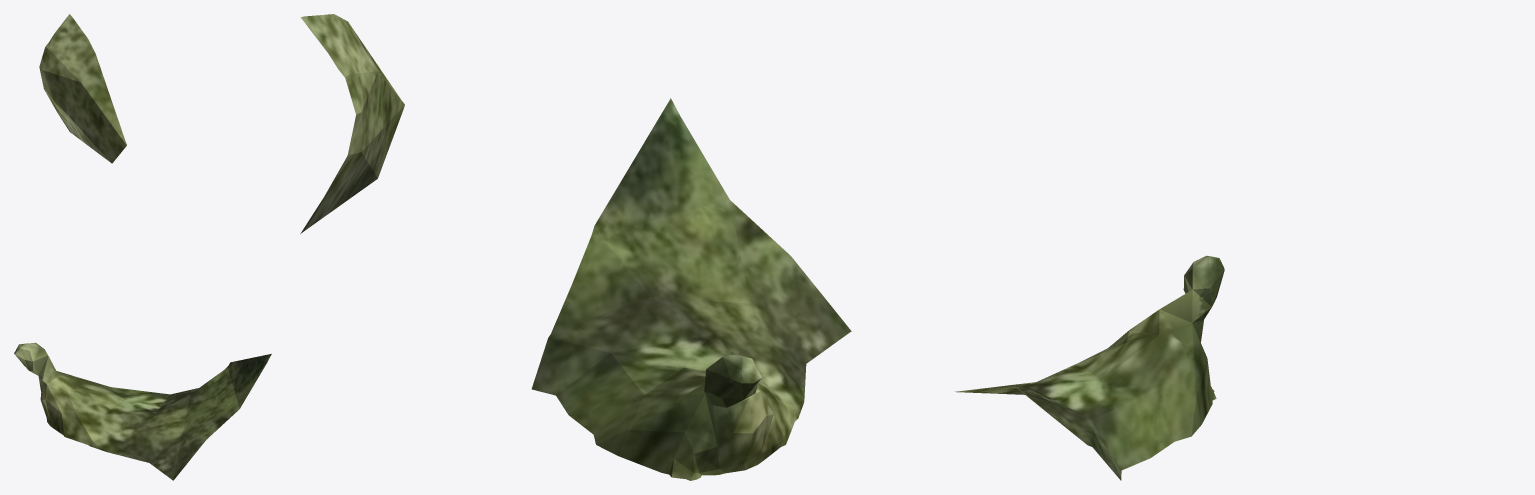
3 renders of one model, left to right at view 1: azimuth 30°, elevation 25°; view 2: azimuth 150°, elevation 25°; view 3: azimuth 270°, elevation 25°, orthographic. The views are drawn at different scales.
Bounding box in the file's own units: 2.58 × 4.75 × 5.9.
Materials: 1 (1 with a texture image).
